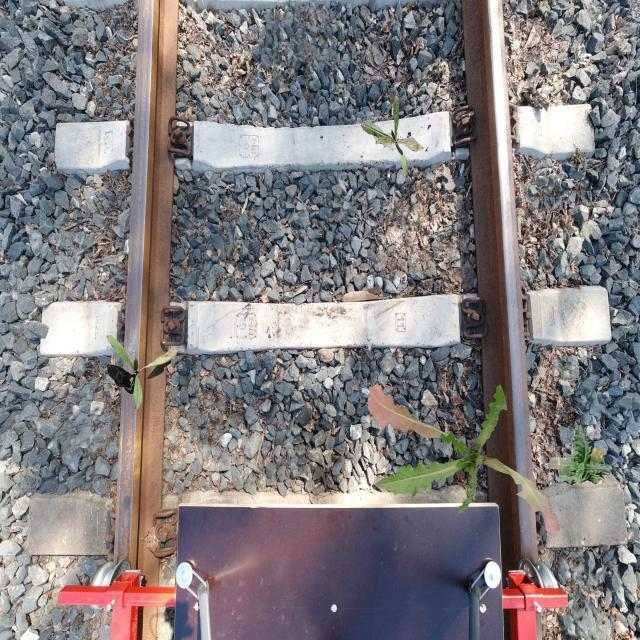Plant: (367, 383, 560, 535), (361, 96, 425, 180), (107, 335, 178, 410), (548, 423, 612, 485)
